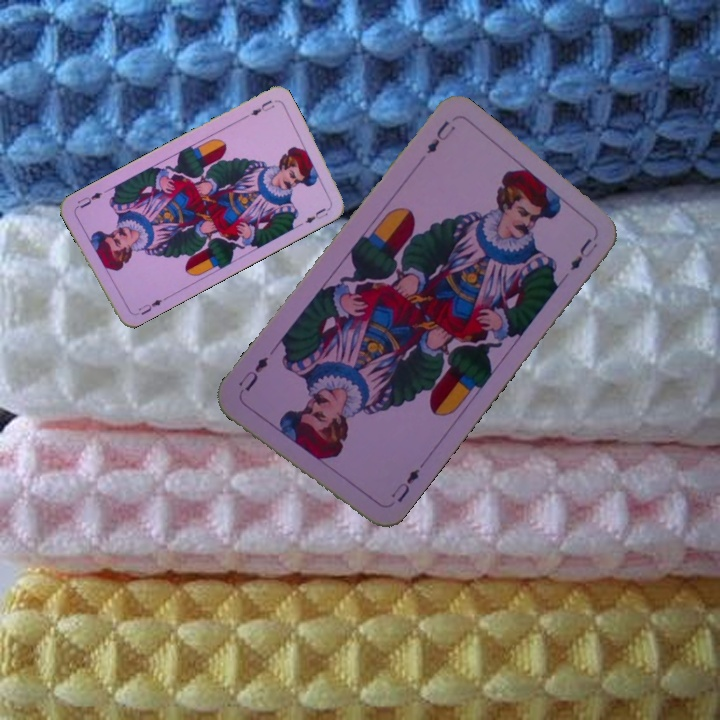EU: (387, 464, 423, 505), (423, 117, 458, 157), (134, 294, 168, 318), (247, 96, 277, 118)
